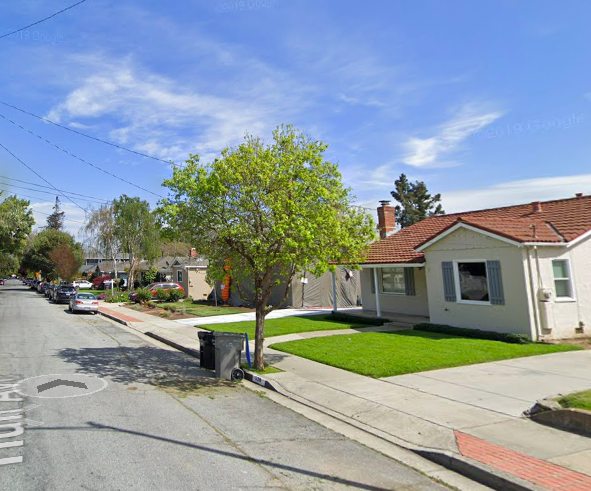tree: (155, 121, 379, 371)
